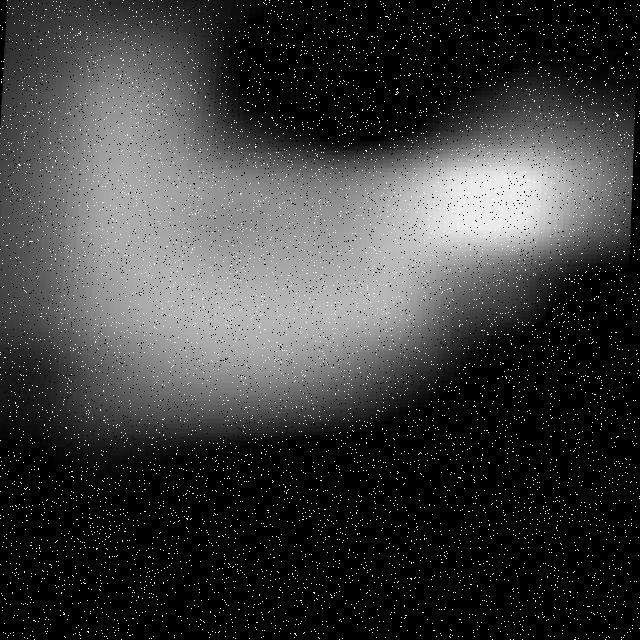person: (4, 29, 640, 437)
